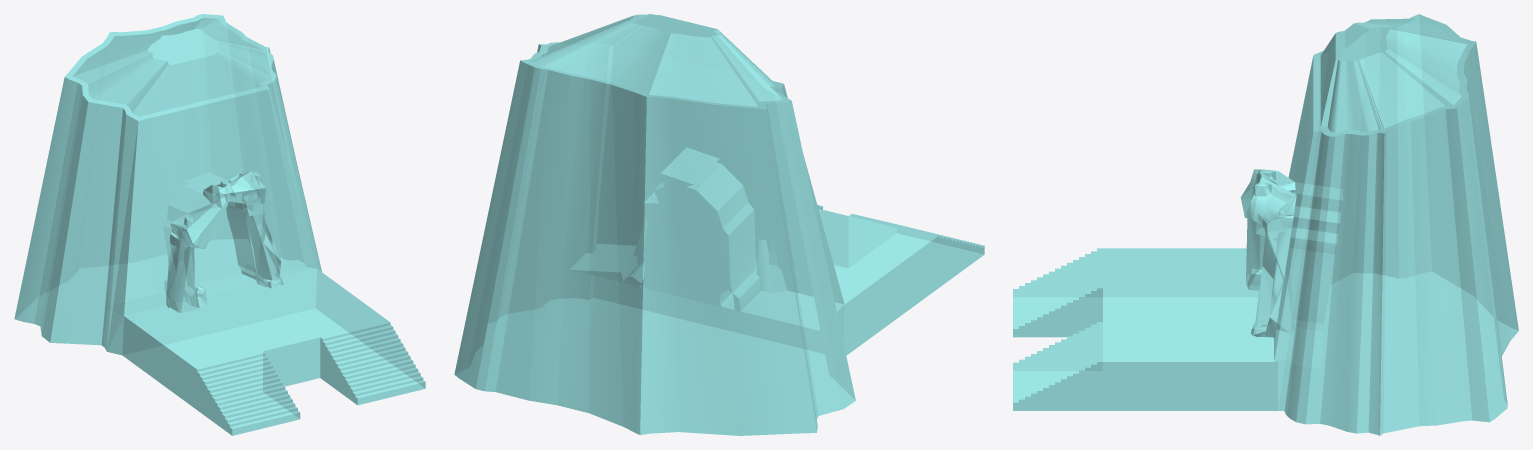
The model's file is Ice_Temple_Entrance_01.fbx.
3 renders of one model, left to right at view 1: azimuth 30°, elevation 25°; view 2: azimuth 150°, elevation 25°; view 3: azimuth 270°, elevation 25°, orthographic. The views are drawn at different scales.
Visible parts, largest first — view 1: Ice_Temple_Entrance_01; view 2: Ice_Temple_Entrance_01; view 3: Ice_Temple_Entrance_01.
Part boxes in pixels (left/top/right/bottom): Ice_Temple_Entrance_01: left=14, top=14, right=425, bottom=435; Ice_Temple_Entrance_01: left=454, top=14, right=984, bottom=435; Ice_Temple_Entrance_01: left=1013, top=14, right=1518, bottom=435.
Size of the model in its own units: 520 by 470 by 676.
